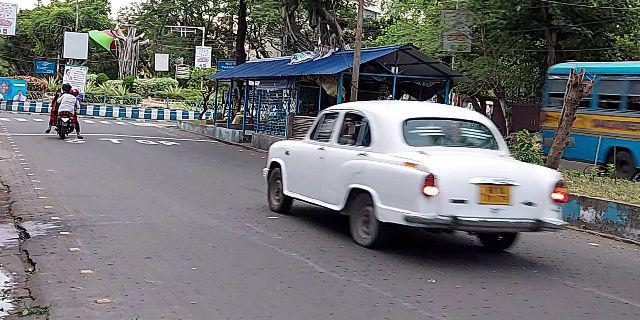Car: (261, 101, 578, 255)
Motorbike: (50, 86, 85, 136)
